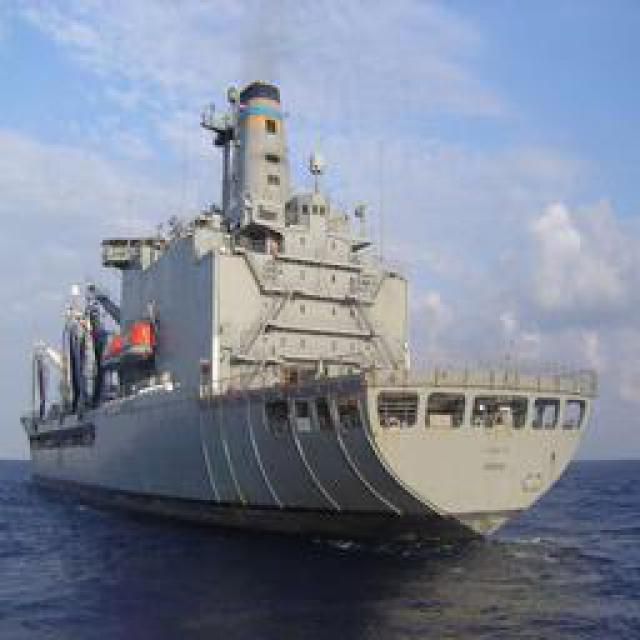Ship: (26, 61, 601, 539)
